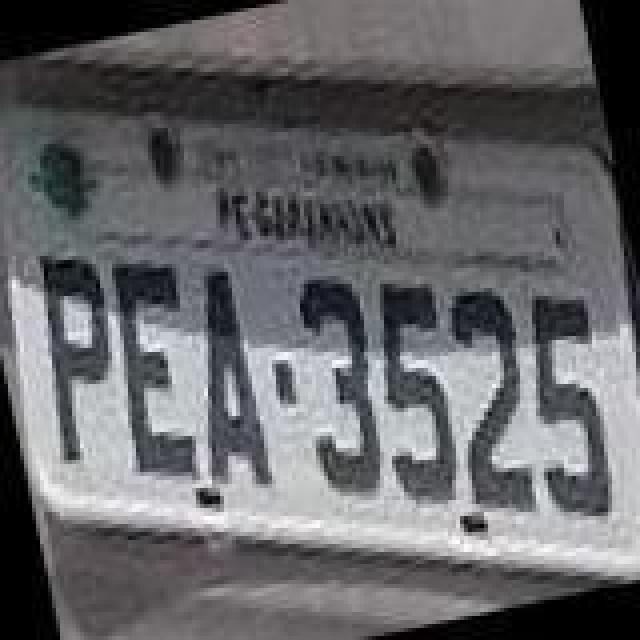2: (430, 282, 554, 526)
3: (278, 268, 402, 508)
5: (506, 284, 630, 532), (354, 270, 478, 514)
A: (170, 266, 278, 502)
E: (90, 250, 214, 486)
P: (14, 238, 138, 466)
